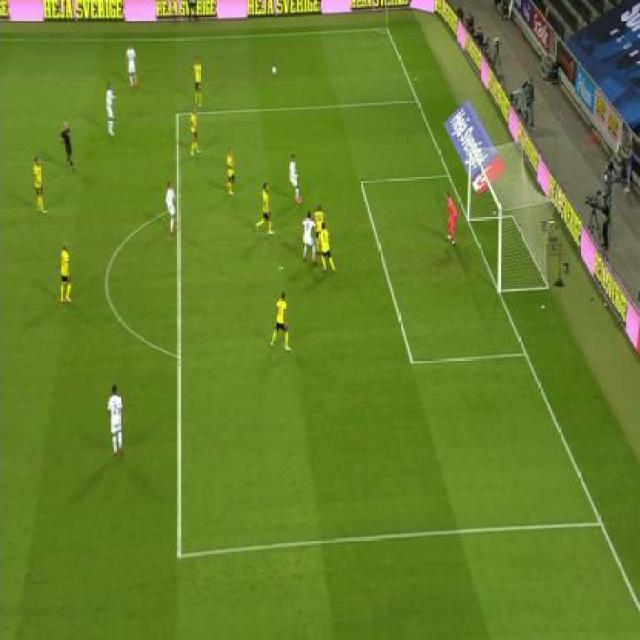ball: (271, 64, 277, 77)
player: (269, 287, 294, 355), (105, 383, 127, 459), (254, 180, 276, 236), (316, 218, 338, 271), (56, 240, 73, 305), (299, 210, 319, 264), (58, 119, 77, 173), (31, 155, 48, 214), (442, 191, 459, 248), (103, 80, 119, 139), (519, 75, 536, 128), (163, 180, 179, 234), (288, 152, 304, 203), (124, 42, 140, 88), (191, 54, 204, 108), (224, 144, 237, 197), (189, 107, 202, 156), (312, 204, 326, 244)
